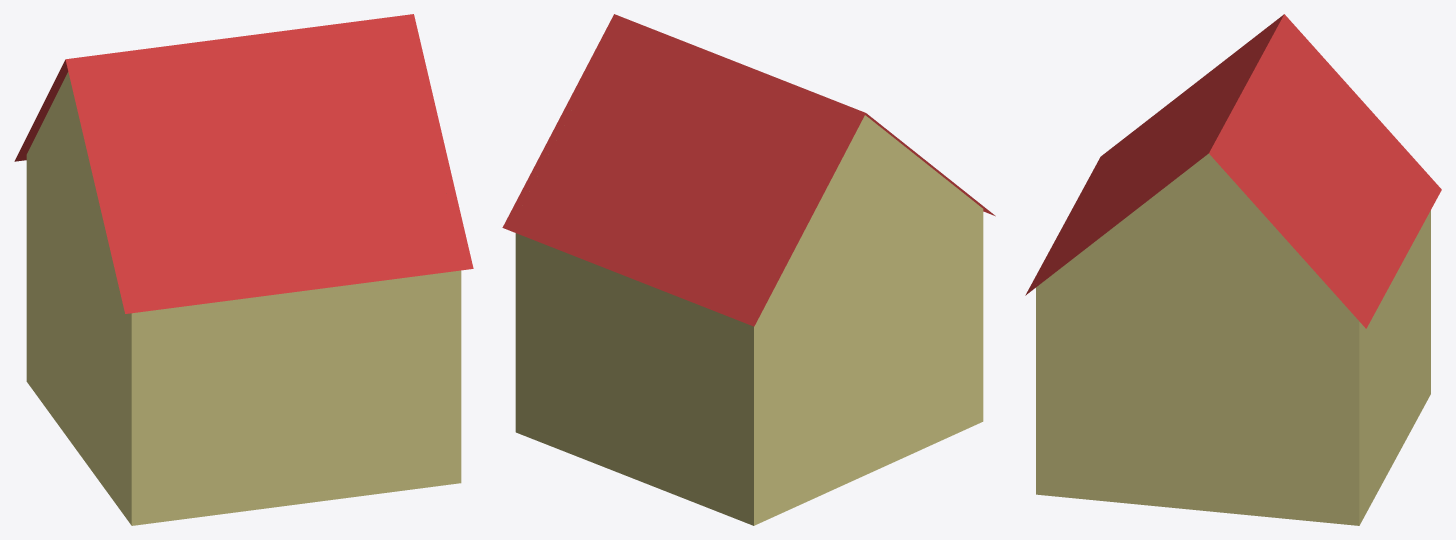
The picture shows the model from 3 angles, left to right: view 1: azimuth 30°, elevation 25°; view 2: azimuth 150°, elevation 25°; view 3: azimuth 270°, elevation 25°; orthographic projection. The views are drawn at different scales.
Bounding box in the file's own units: 11.12 × 11.36 × 10.89.
